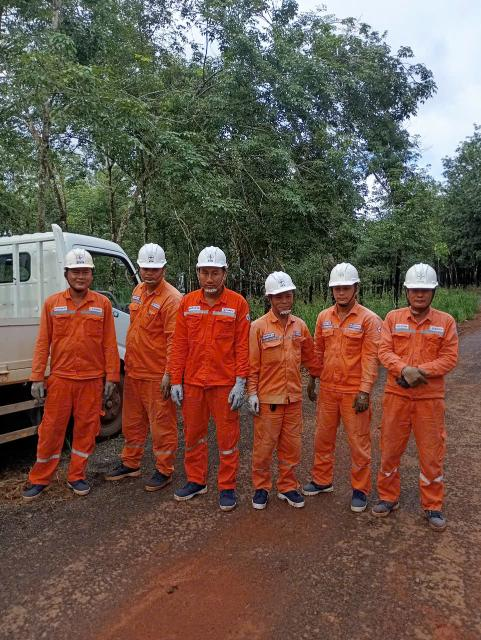gloves: (336, 376, 386, 415), (221, 369, 251, 408), (96, 375, 135, 403), (394, 361, 429, 388), (146, 371, 174, 402), (163, 375, 191, 405), (297, 371, 321, 402), (244, 383, 263, 417), (29, 374, 51, 402), (391, 372, 414, 390)
helmet: (324, 256, 375, 293), (402, 258, 447, 299), (128, 241, 183, 273), (187, 242, 235, 272), (54, 246, 109, 272), (251, 272, 303, 295)
shoes: (131, 463, 196, 497), (168, 473, 218, 505), (19, 473, 59, 507), (96, 460, 144, 487), (211, 477, 240, 521), (67, 473, 101, 507), (281, 479, 314, 514), (423, 508, 453, 538), (302, 473, 334, 500), (374, 495, 406, 522), (348, 484, 370, 513), (246, 486, 276, 506)
